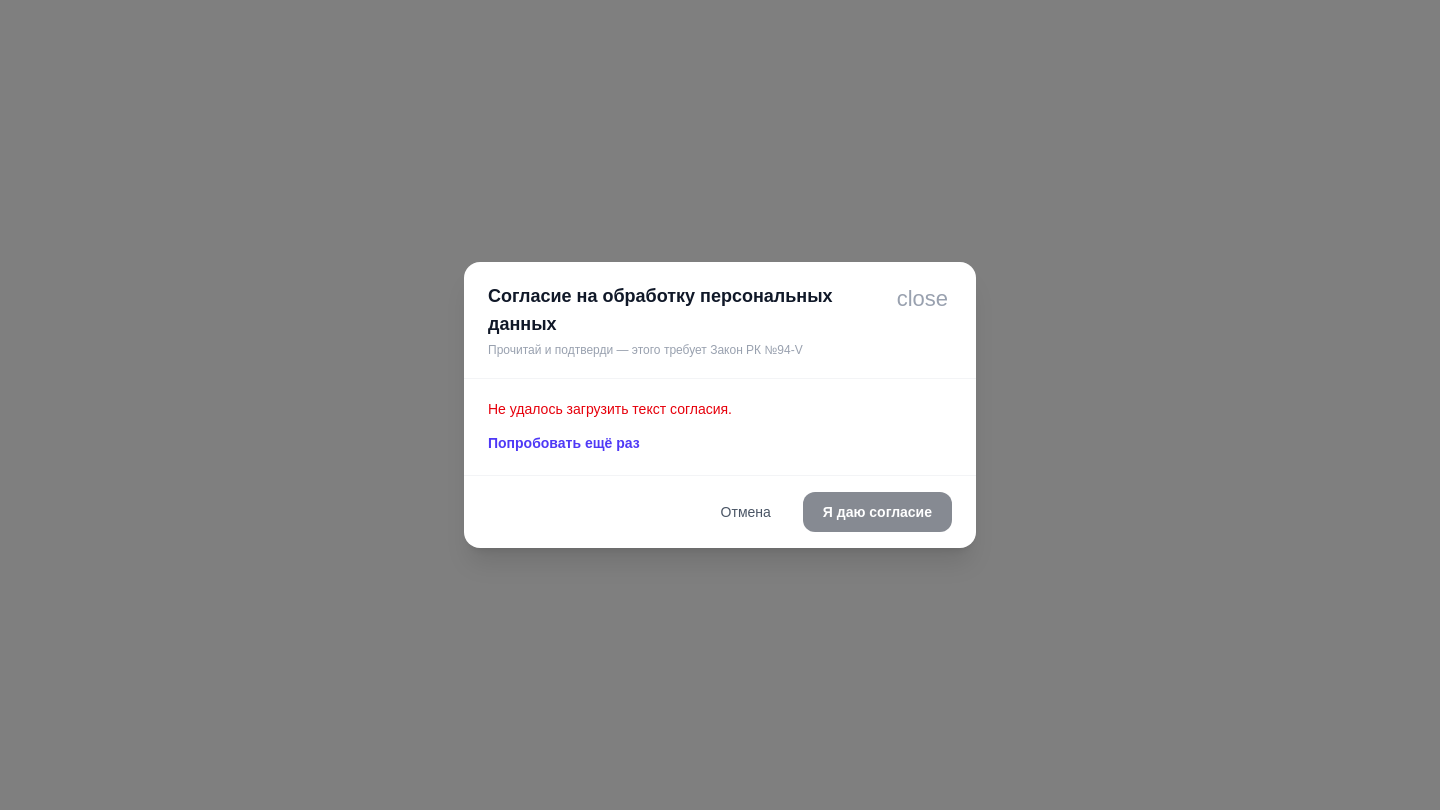
DataConsentModal › shows an error state and lets the user retry
The image size is (1440, 810).
Check: the text "Не удалось загрузить текст согласия." is shown, box [488,401,732,417]
Check: the button "Я даю согласие" is disabled, box [803,492,952,532]
Click the button "Попробовать ещё раз" at (564, 443), box [488,433,640,453]
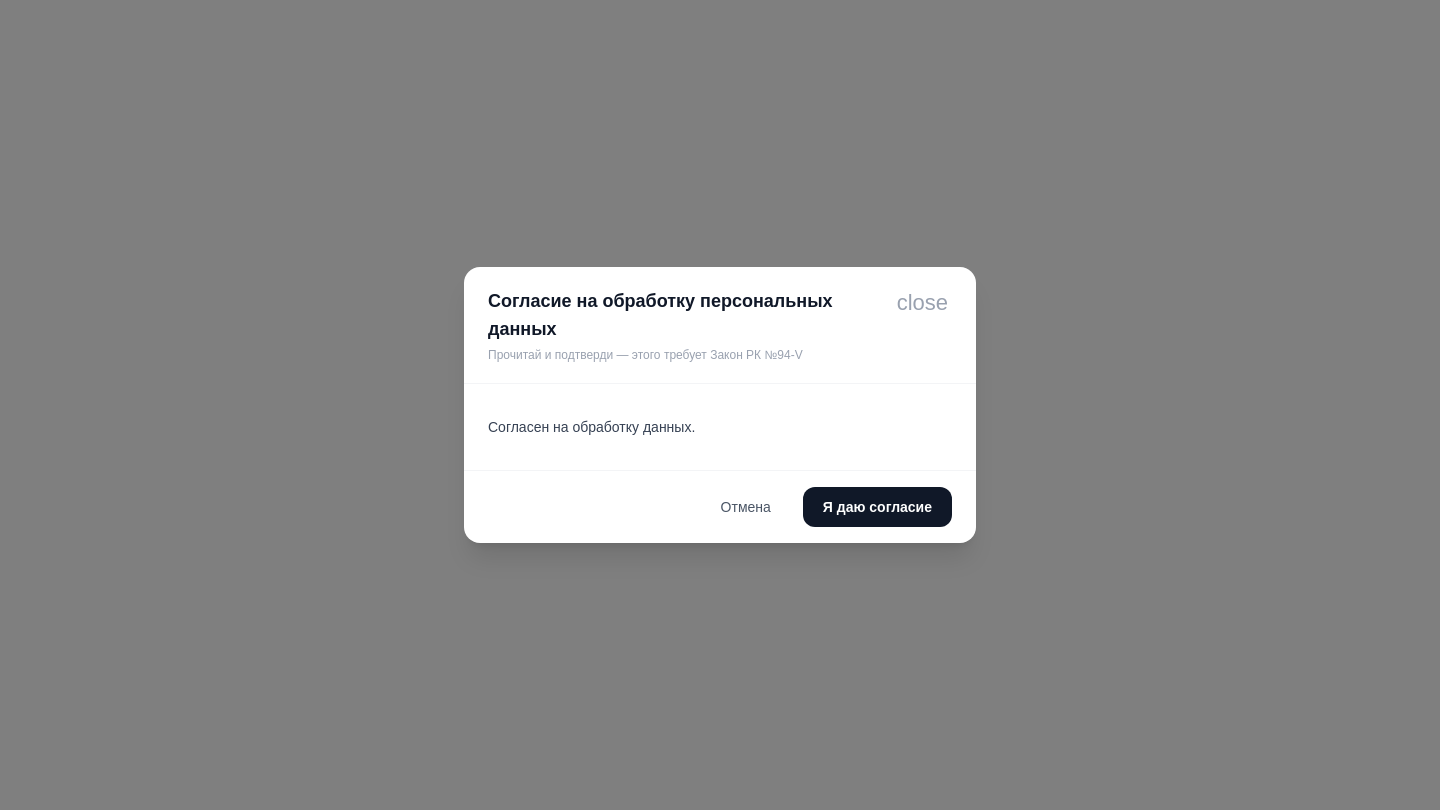
Check: the text "Согласен на обработку данных." is shown, box [488,419,695,435]
